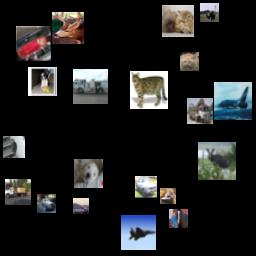airplane: (214, 82, 252, 120), (121, 215, 156, 250)
automobile: (135, 176, 157, 198), (37, 194, 56, 213), (73, 198, 89, 214)
bird: (200, 3, 219, 22)
cat: (130, 71, 168, 109), (162, 5, 194, 37), (3, 136, 25, 158), (180, 52, 199, 71), (160, 188, 176, 204)
deer: (198, 142, 236, 180), (52, 12, 84, 44)
dog: (28, 67, 57, 96), (74, 159, 103, 188)
truck: (16, 26, 51, 61), (73, 69, 108, 104), (5, 179, 31, 205), (187, 98, 213, 124)
